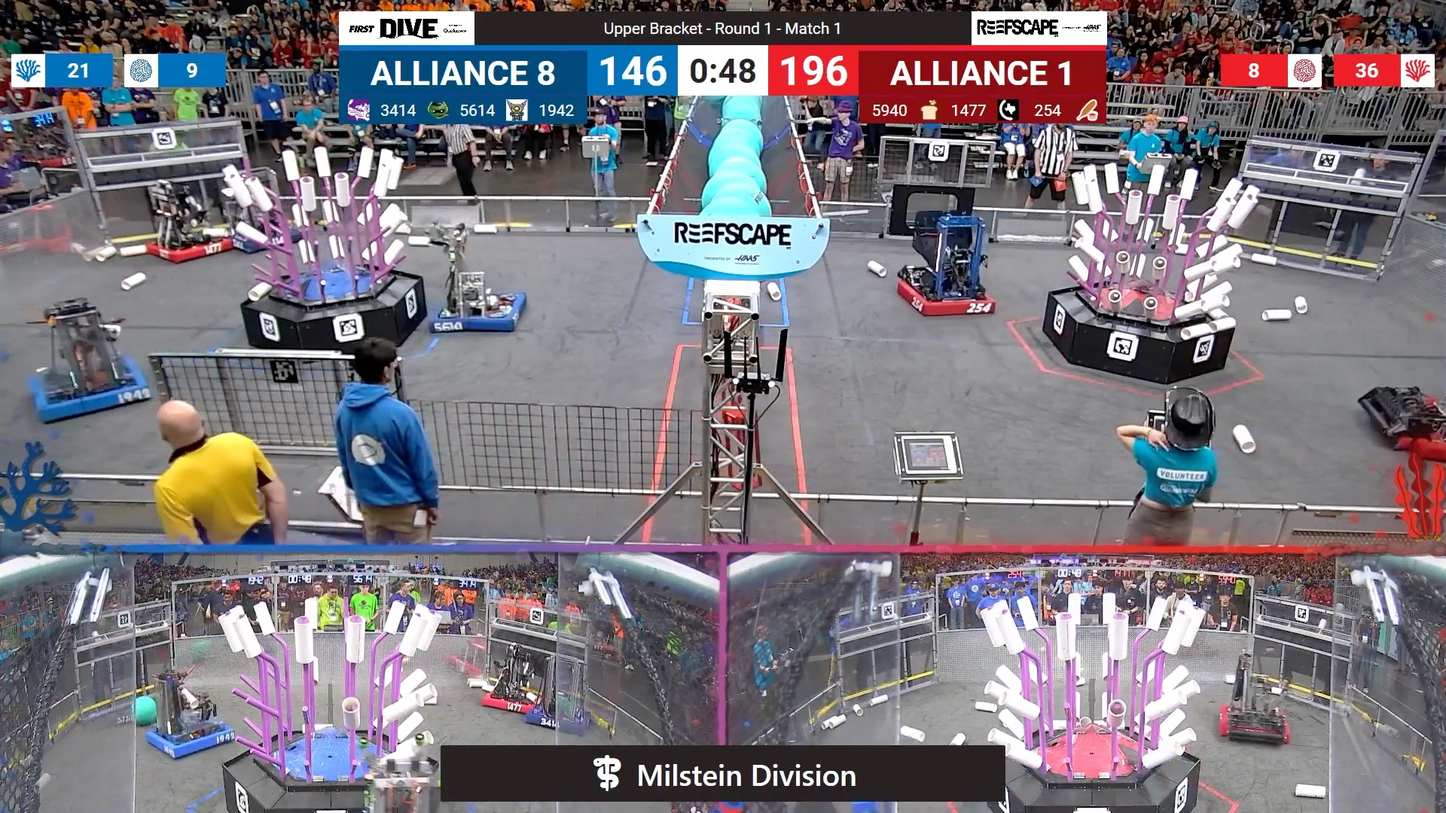bumpers: (22, 351, 155, 426), (888, 271, 1007, 324), (430, 281, 534, 338), (139, 710, 242, 763), (1380, 389, 1446, 462), (1206, 699, 1298, 749), (139, 229, 243, 269), (523, 698, 595, 738), (474, 683, 553, 718)
